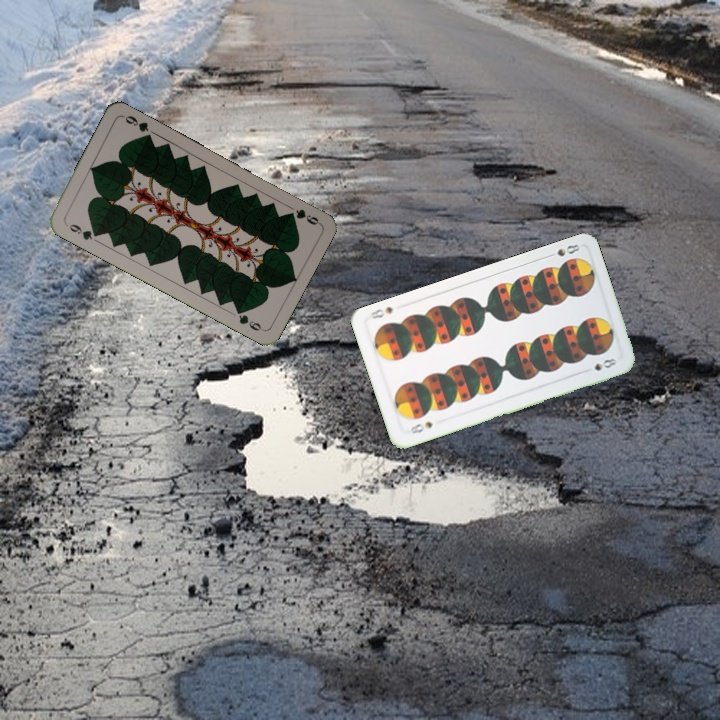G9: (284, 205, 323, 228), (65, 220, 102, 243)
S8: (543, 240, 582, 260), (403, 417, 435, 437)
